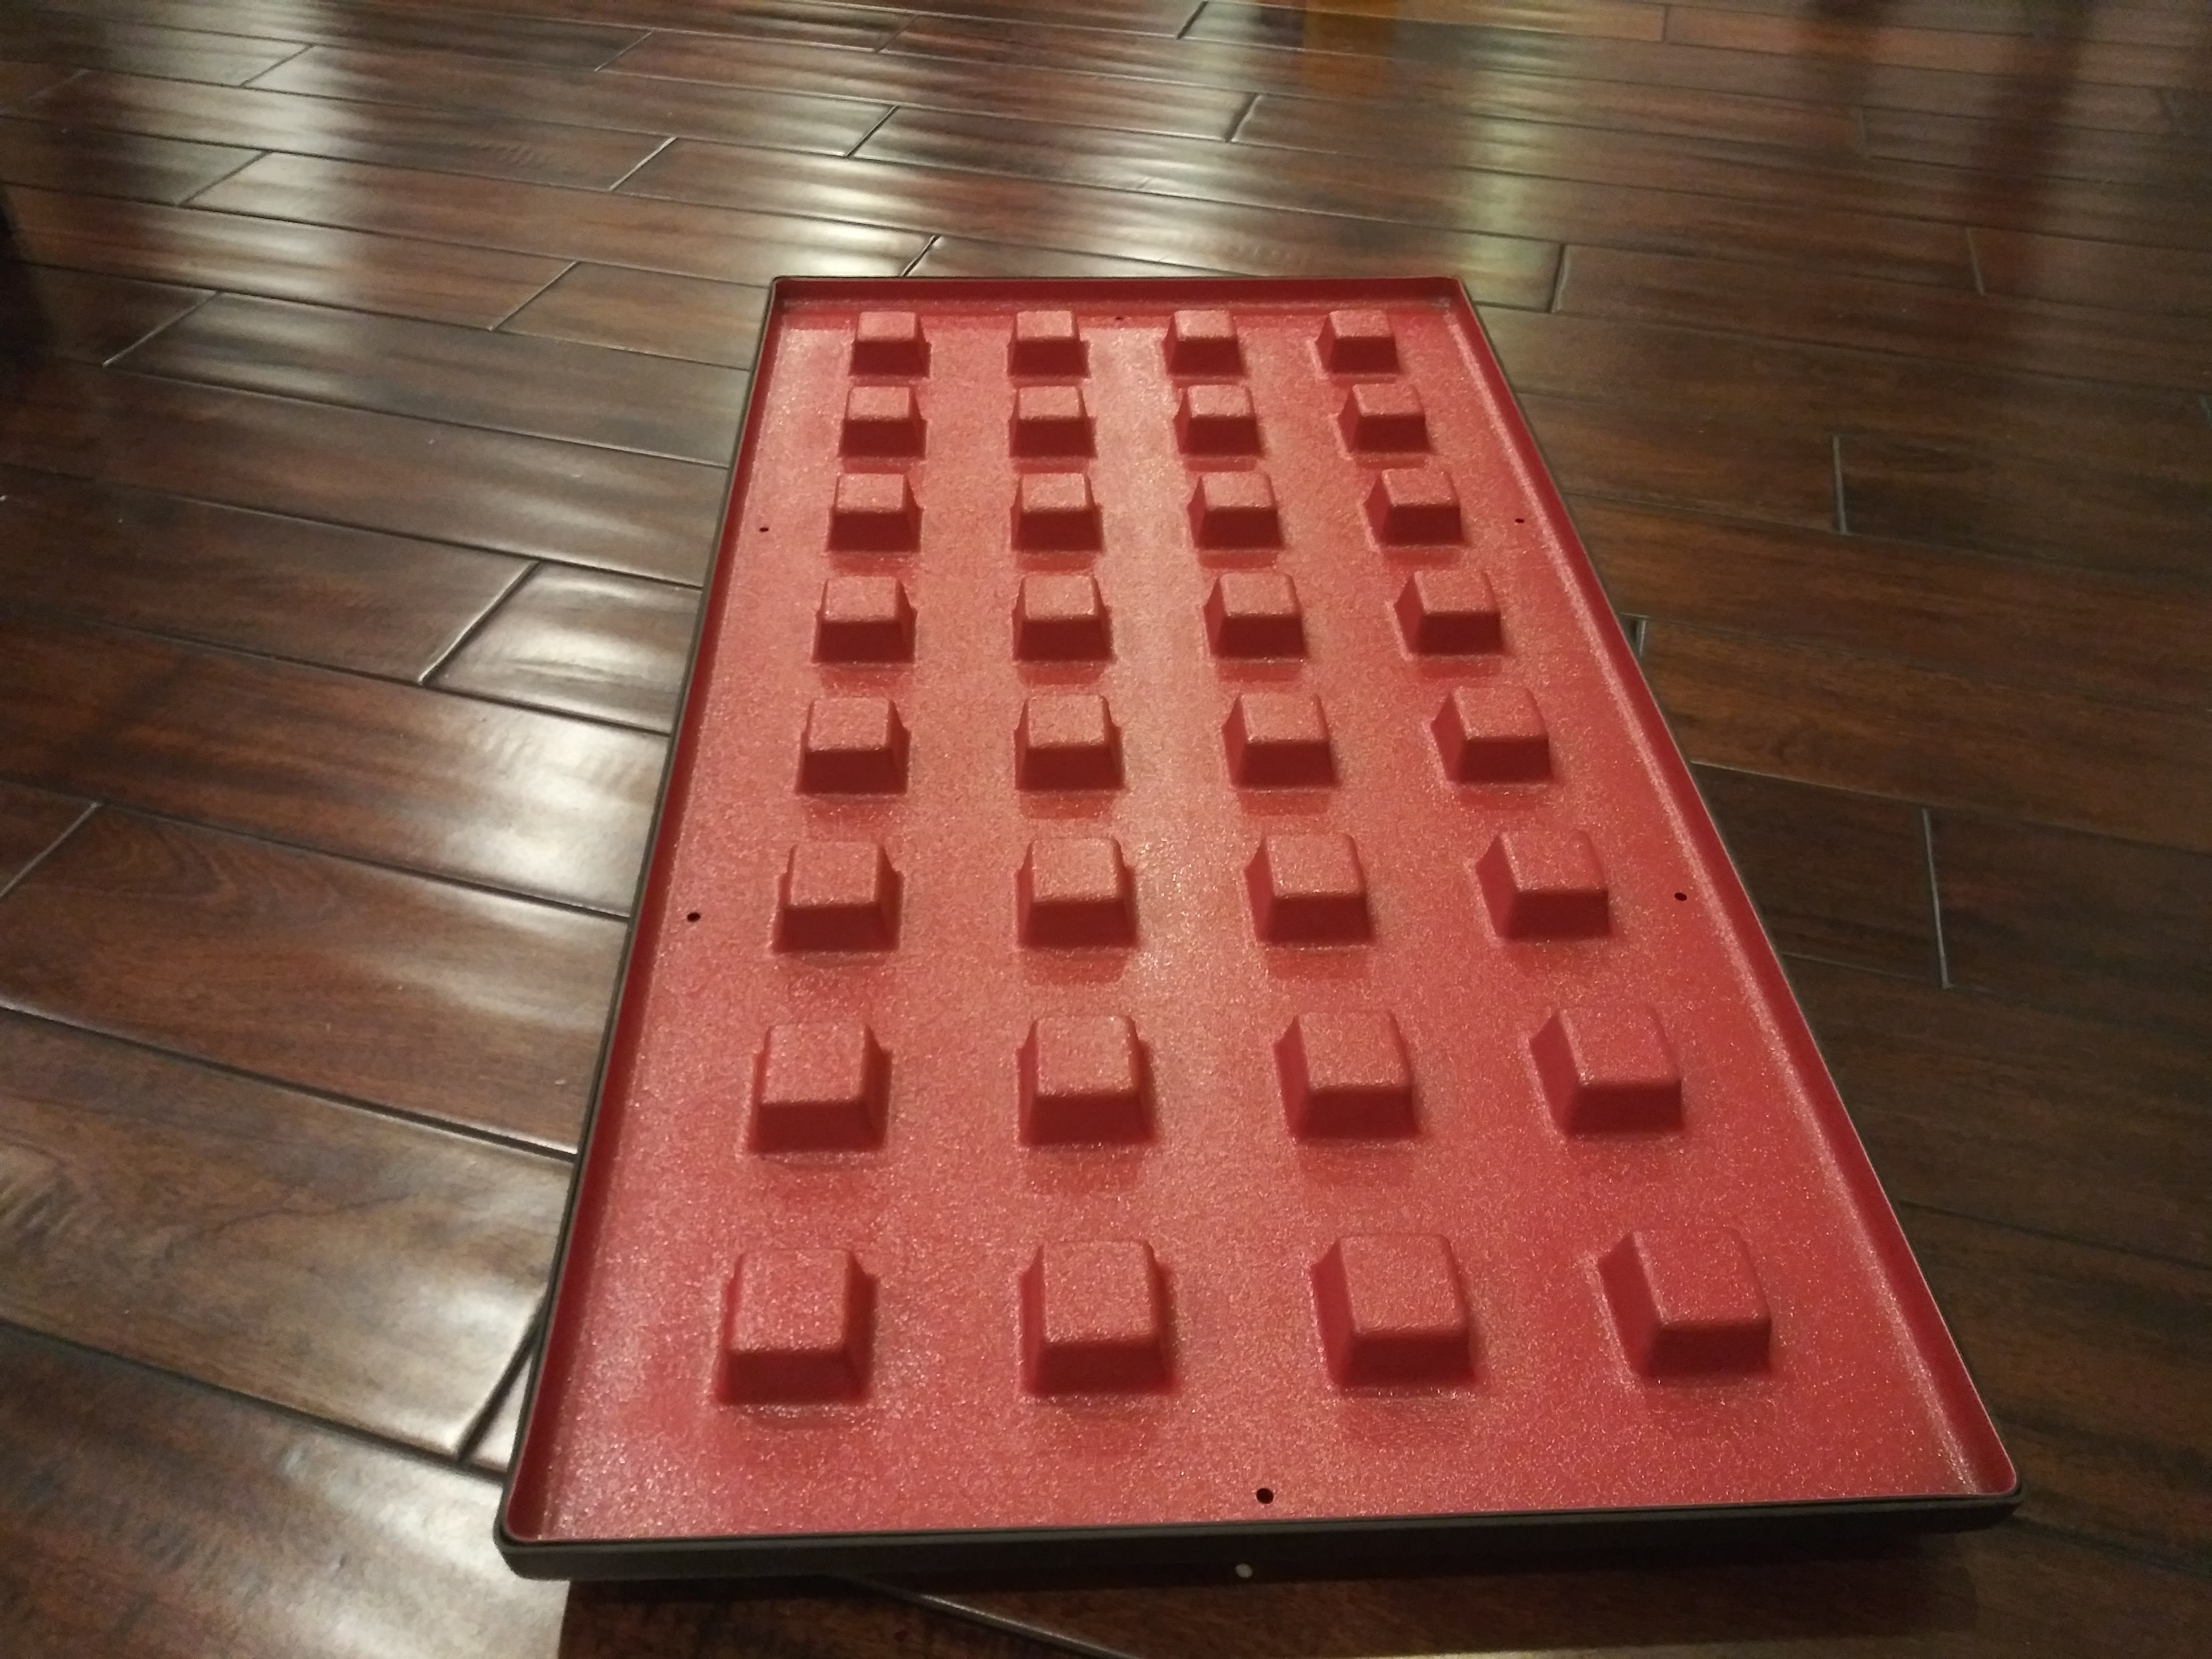red foundation: (482, 209, 2034, 1588)
